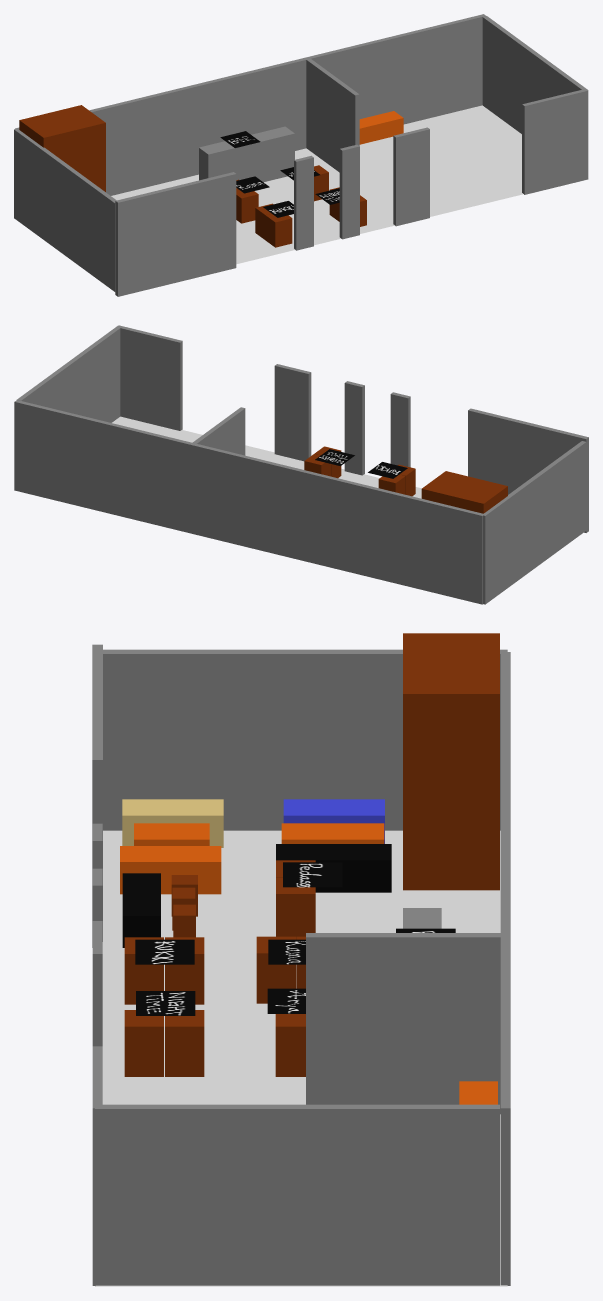
The model's file is proposed_layout.glb.
3 renders of one model, top to bottom at view 1: azimuth 30°, elevation 25°; view 2: azimuth 150°, elevation 25°; view 3: azimuth 270°, elevation 25°, orthographic. The views are drawn at different scales.
Visible parts, largest first — view 1: Wall.010, Plane.004, Wall.012, Wall.015, Wall.019, Wall.017, Wall.013, Wall.011, SmallTable.018, AperolSpritzTable.021, Wall.016, Wall.018 (+7 smaller); view 2: Wall.010, Wall.012, Wall.019, Wall.015, Wall.017, Wall.013, Wall.016, SmallTable.018, Plane.004, Wall.018, Wall.011, Wall.014 (+4 smaller); view 3: Wall.013, Wall.019, Plane.004, Wall.011, SmallTable.018, Wall.012, AperolSpritzTable.019, AperolSpritzTable.012, AperolSpritzTable.016, Wall.010, AperolSpritzTable.017, AperolSpritzTable.018 (+18 smaller).
Part boxes in pixels (box(x1,y1,x2,y2)): Wall.010: box(15, 57, 307, 195); Plane.004: box(111, 105, 523, 264); Wall.012: box(309, 14, 485, 124); Wall.015: box(115, 172, 236, 296); Wall.019: box(14, 128, 116, 292); Wall.017: box(522, 89, 588, 194); Wall.013: box(482, 16, 587, 133); Wall.011: box(305, 57, 359, 172); SmallTable.018: box(19, 105, 105, 191); AperolSpritzTable.021: box(199, 126, 294, 182); Wall.016: box(393, 127, 429, 226); Wall.018: box(339, 144, 359, 239); Wall.010: box(192, 443, 484, 604); Wall.012: box(14, 400, 191, 533); Wall.019: box(483, 441, 586, 604); Wall.015: box(468, 408, 588, 532); Wall.017: box(118, 325, 182, 430); Wall.013: box(17, 325, 121, 422); Wall.016: box(274, 364, 311, 461); SmallTable.018: box(421, 471, 507, 513); Plane.004: box(112, 416, 421, 498); Wall.018: box(344, 381, 364, 475); Wall.011: box(190, 407, 245, 533); Wall.014: box(390, 392, 410, 467); Wall.013: box(95, 1104, 499, 1286); Wall.019: box(103, 649, 507, 830); Plane.004: box(95, 830, 507, 1286); Wall.011: box(306, 933, 510, 1114); SmallTable.018: box(403, 633, 499, 890); Wall.012: box(500, 937, 510, 1285); AperolSpritzTable.019: box(276, 844, 391, 892); AperolSpritzTable.012: box(120, 846, 221, 894); AperolSpritzTable.016: box(122, 799, 223, 847); Wall.010: box(500, 652, 510, 934); AperolSpritzTable.017: box(283, 799, 384, 843); AperolSpritzTable.018: box(122, 873, 160, 947).
Size of the model in its own units: 21.5 by 4.41 by 8.26.
Materials: 12 (6 with a texture image).
